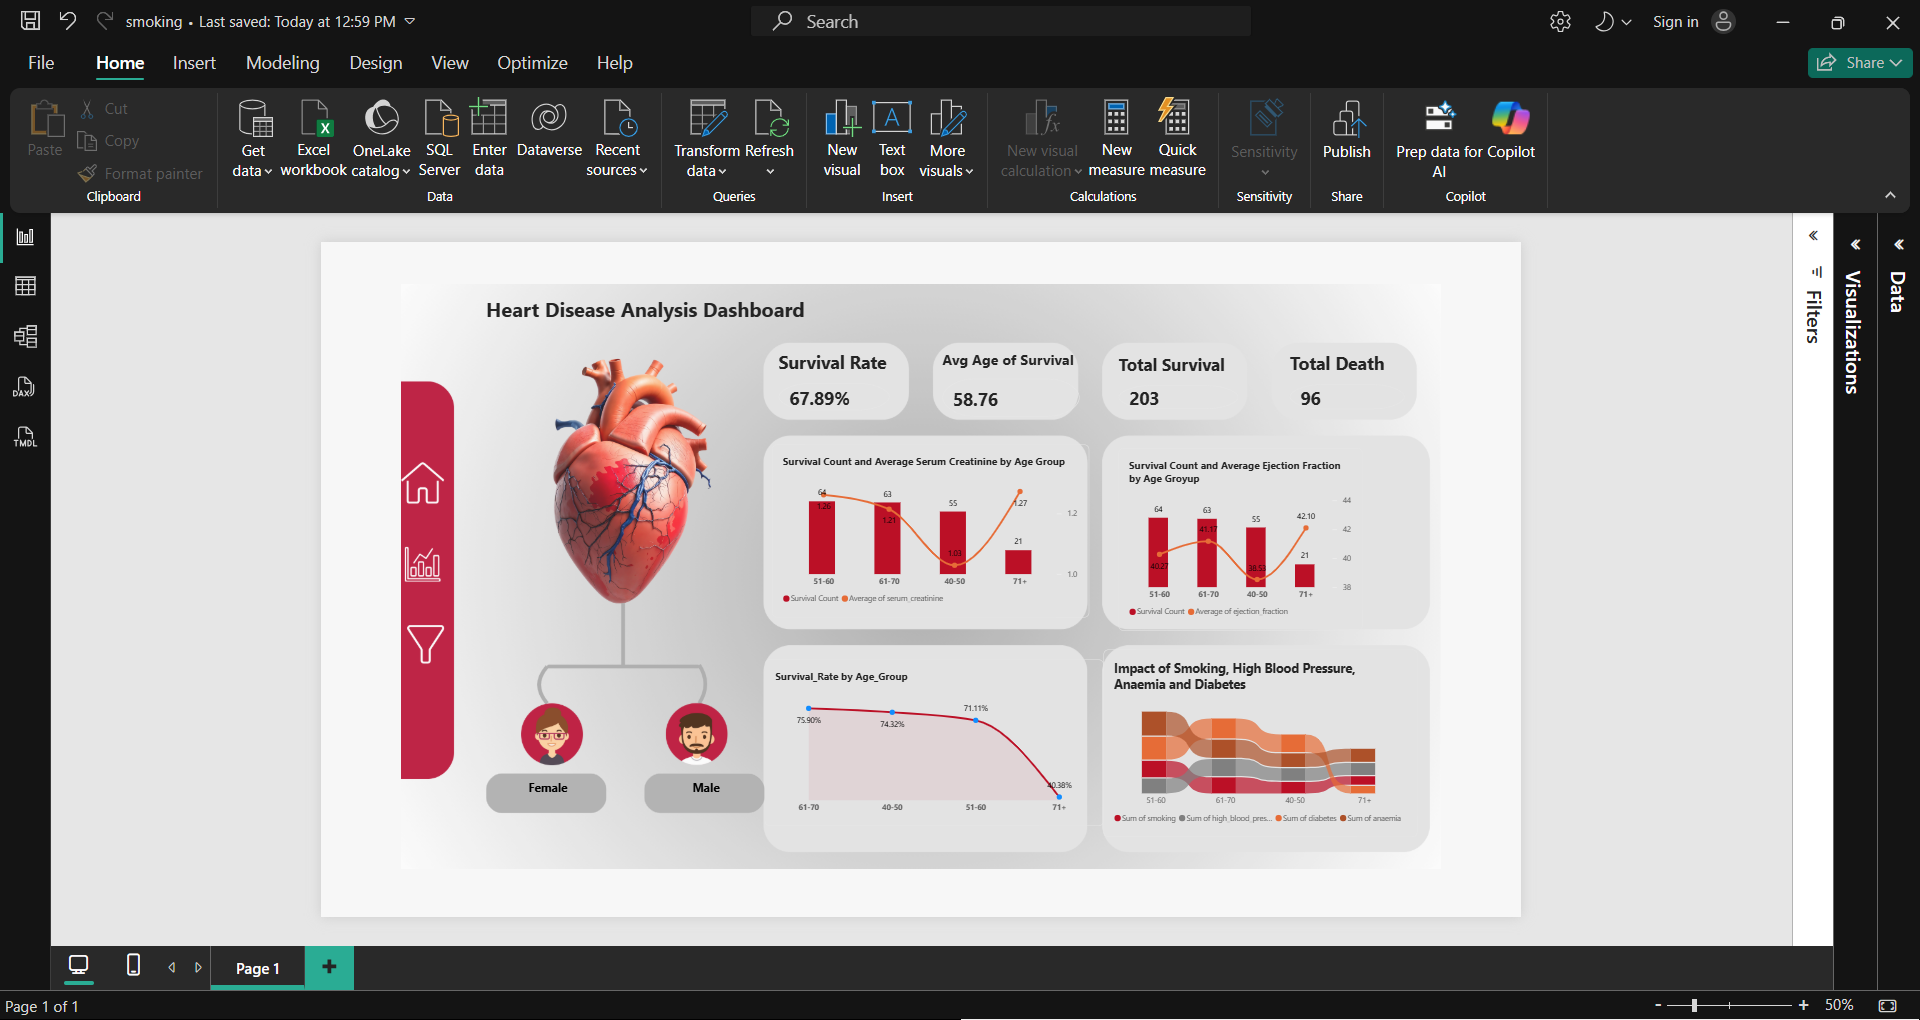

This screenshot's page, from the dashboard's own definition file:
{"tool":"powerbi","page":{"name":"Page 1","canvas":[1920,1080],"ordinal":0},"visuals":[{"type":"textbox","box":[263.3,86.7,556.7,53.3],"z":0},{"type":"cardVisual","title":"Survival Rate","fields":{"Data":["heart_Disease_clinical_records_.Survival_Rate"]},"box":[732,172,178,98],"z":1},{"type":"cardVisual","title":"Avg Age of Survival","fields":{"Data":["heart_Disease_clinical_records_.Average_Age_Survival"]},"box":[994,172,220,108],"z":2},{"type":"cardVisual","title":"Total Survival","fields":{"Data":["heart_Disease_clinical_records_.Total_Surviour"]},"box":[1276,178,192,90],"z":3},{"type":"cardVisual","title":"Total Death","fields":{"Data":["heart_Disease_clinical_records_.Total_Death"]},"box":[1550,174,184,94],"z":4},{"type":"lineClusteredColumnComboChart","title":"Survival Count and Average Serum Creatinine by Age Group","fields":{"Category":["heart_Disease_clinical_records_.AGE_GROUP"],"Y":["CountNonNull(heart_Disease_clinical_records_.DEATH_EVENT)"],"Y2":["Avg(heart_Disease_clinical_records_.serum_creatinine)"]},"box":[721.4,324.3,507.1,277.1],"z":6},{"type":"lineClusteredColumnComboChart","title":"Survival Count and Average Ejection Fraction by Age Groyup","fields":{"Category":["heart_Disease_clinical_records_.AGE_GROUP"],"Y":["CountNonNull(heart_Disease_clinical_records_.DEATH_EVENT)"],"Y2":["Avg(heart_Disease_clinical_records_.ejection_fraction)"]},"box":[1276,330,390,292],"z":7},{"type":"lineChart","title":"Survival_Rate by Age_Group","fields":{"Category":["heart_Disease_clinical_records_.AGE_GROUP"],"Y":["heart_Disease_clinical_records_.Survival_Rate"]},"box":[710,668,542,266],"z":8},{"type":"ribbonChart","title":"Impact of Smoking, High Blood Pressure, Anaemia and Diabetes","fields":{"Category":["heart_Disease_clinical_records_.AGE_GROUP"],"Y":["Sum(heart_Disease_clinical_records_.smoking)","Sum(heart_Disease_clinical_records_.high_blood_pressure)","Sum(heart_Disease_clinical_records_.diabetes)","Sum(heart_Disease_clinical_records_.anaemia)"]},"box":[1252,652,502,300],"z":9},{"type":"advancedSlicerVisual","fields":{"Values":["heart_Disease_clinical_records_.Gender"]},"box":[264,850,446,64],"z":10}]}

Visuals, with their boxes on the page's 1920x1080 design canvas (x1, y1, x2, y2). These are canvas units, not pixel positions in the 1920x1020 screenshot, which may show the page scaled, cropped or inside an application window:
textbox: x1=263, y1=87, x2=820, y2=140
"Survival Rate" cardVisual: x1=732, y1=172, x2=910, y2=270
"Avg Age of Survival" cardVisual: x1=994, y1=172, x2=1214, y2=280
"Total Survival" cardVisual: x1=1276, y1=178, x2=1468, y2=268
"Total Death" cardVisual: x1=1550, y1=174, x2=1734, y2=268
"Survival Count and Average Serum Creatinine by Age Group" lineClusteredColumnComboChart: x1=721, y1=324, x2=1228, y2=601
"Survival Count and Average Ejection Fraction by Age Groyup" lineClusteredColumnComboChart: x1=1276, y1=330, x2=1666, y2=622
"Survival_Rate by Age_Group" lineChart: x1=710, y1=668, x2=1252, y2=934
"Impact of Smoking, High Blood Pressure, Anaemia and Diabetes" ribbonChart: x1=1252, y1=652, x2=1754, y2=952
advancedSlicerVisual - heart_Disease_clinical_records_.Gender: x1=264, y1=850, x2=710, y2=914
